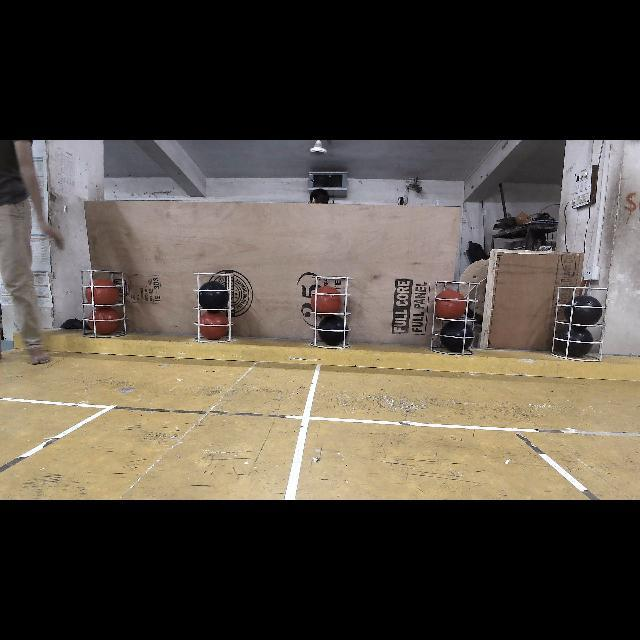P: (566, 294, 602, 326), (560, 326, 592, 360), (443, 322, 475, 354), (196, 282, 228, 310), (318, 317, 349, 345)
R: (198, 312, 232, 344), (434, 290, 468, 320), (87, 308, 121, 337), (312, 286, 342, 316), (86, 280, 118, 306)
S: (554, 284, 608, 364), (430, 278, 482, 359), (80, 267, 130, 341), (309, 274, 355, 352), (191, 270, 237, 346)
